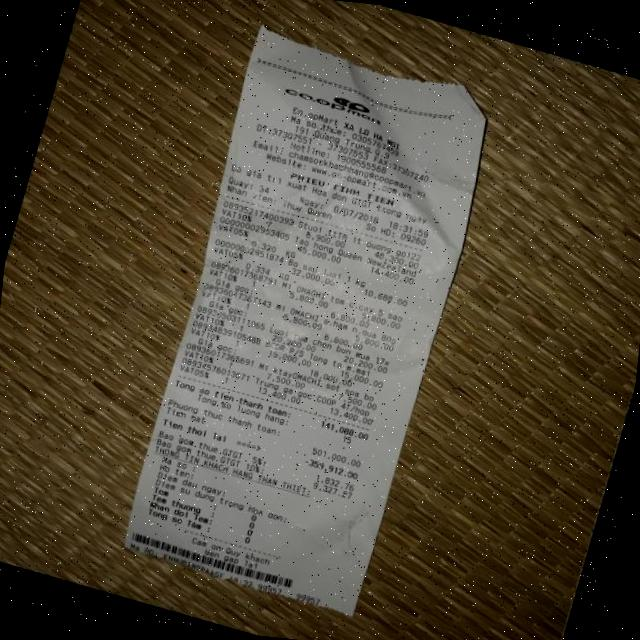Date: (330, 202, 381, 226)
Store_Name: (276, 83, 390, 128)
amount_number: (317, 418, 372, 441)
label_total: (172, 377, 291, 418)
